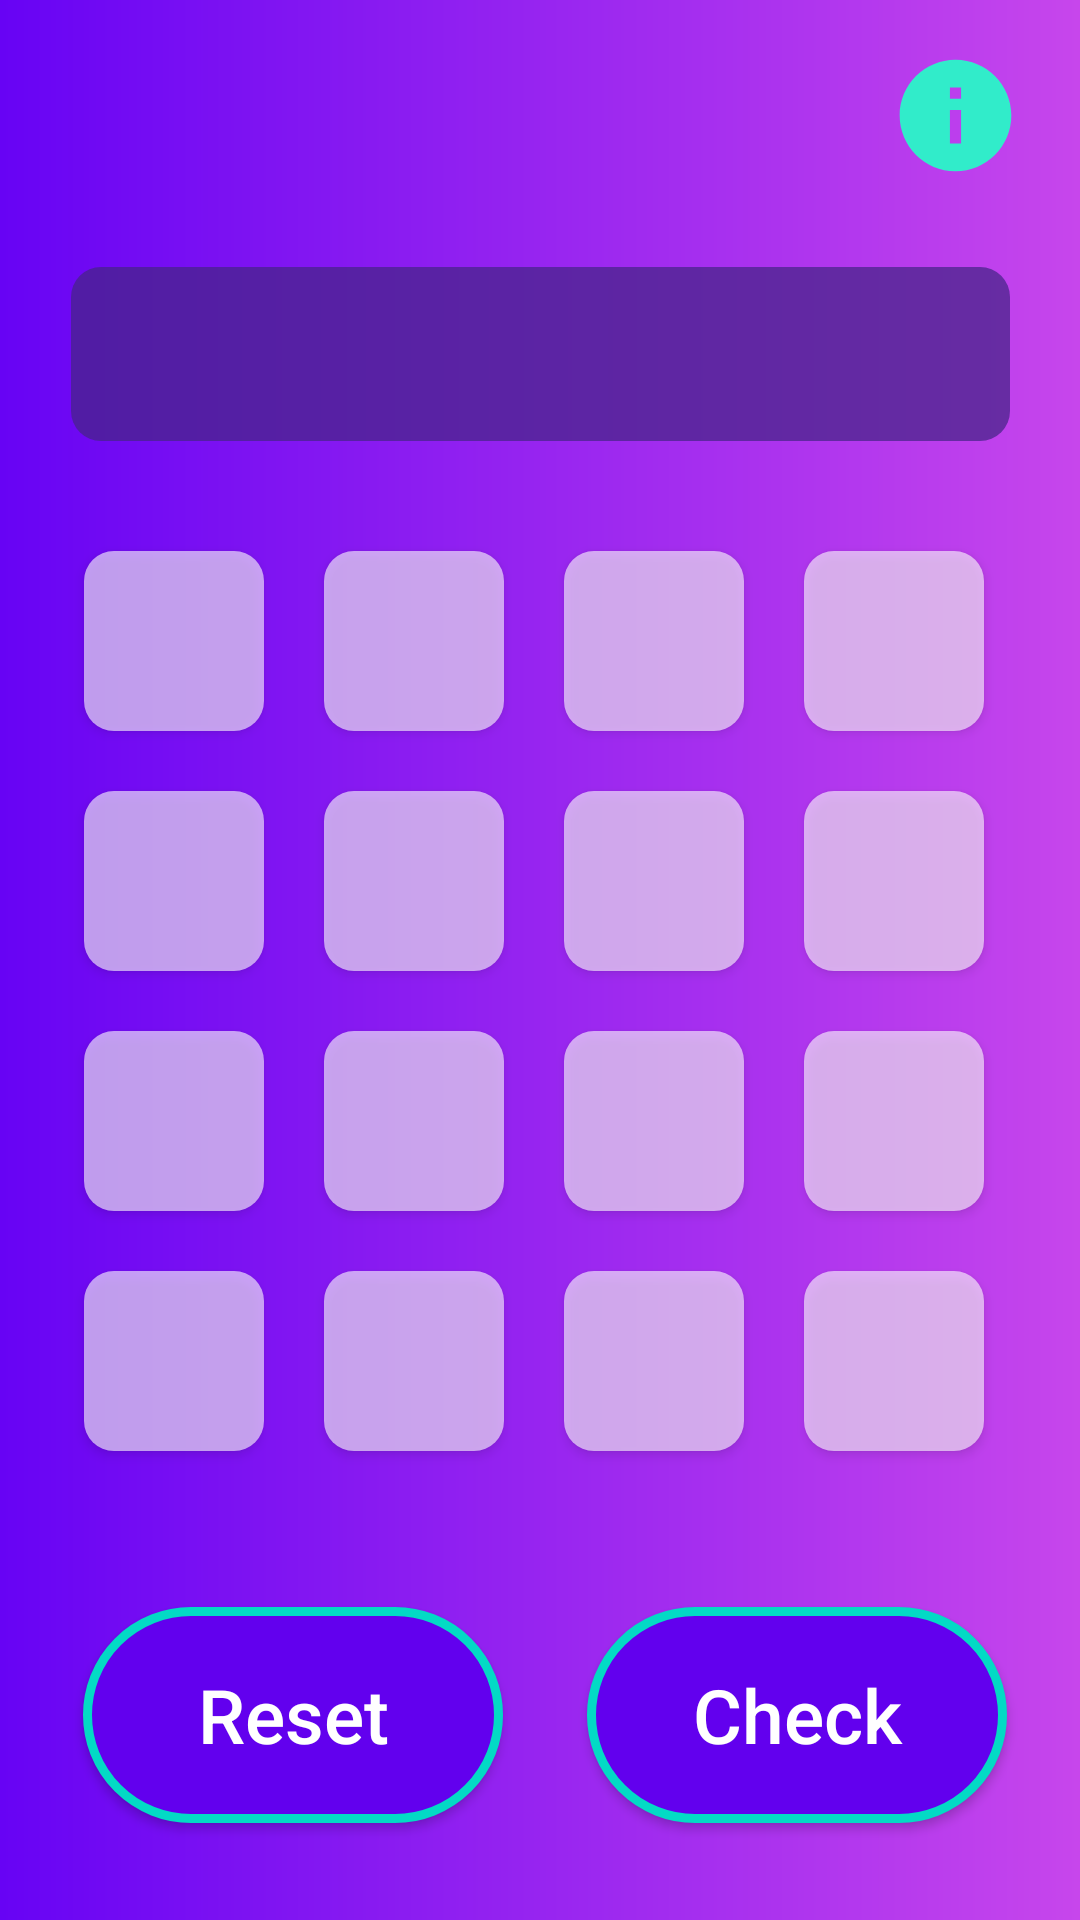

Screen size 1080px x 1920px. Icon name, then its box in pixels as [x1=x1, y1=y1, x2=x2, y2=y2]:
info: [x1=899, y1=59, x2=1012, y2=172]
